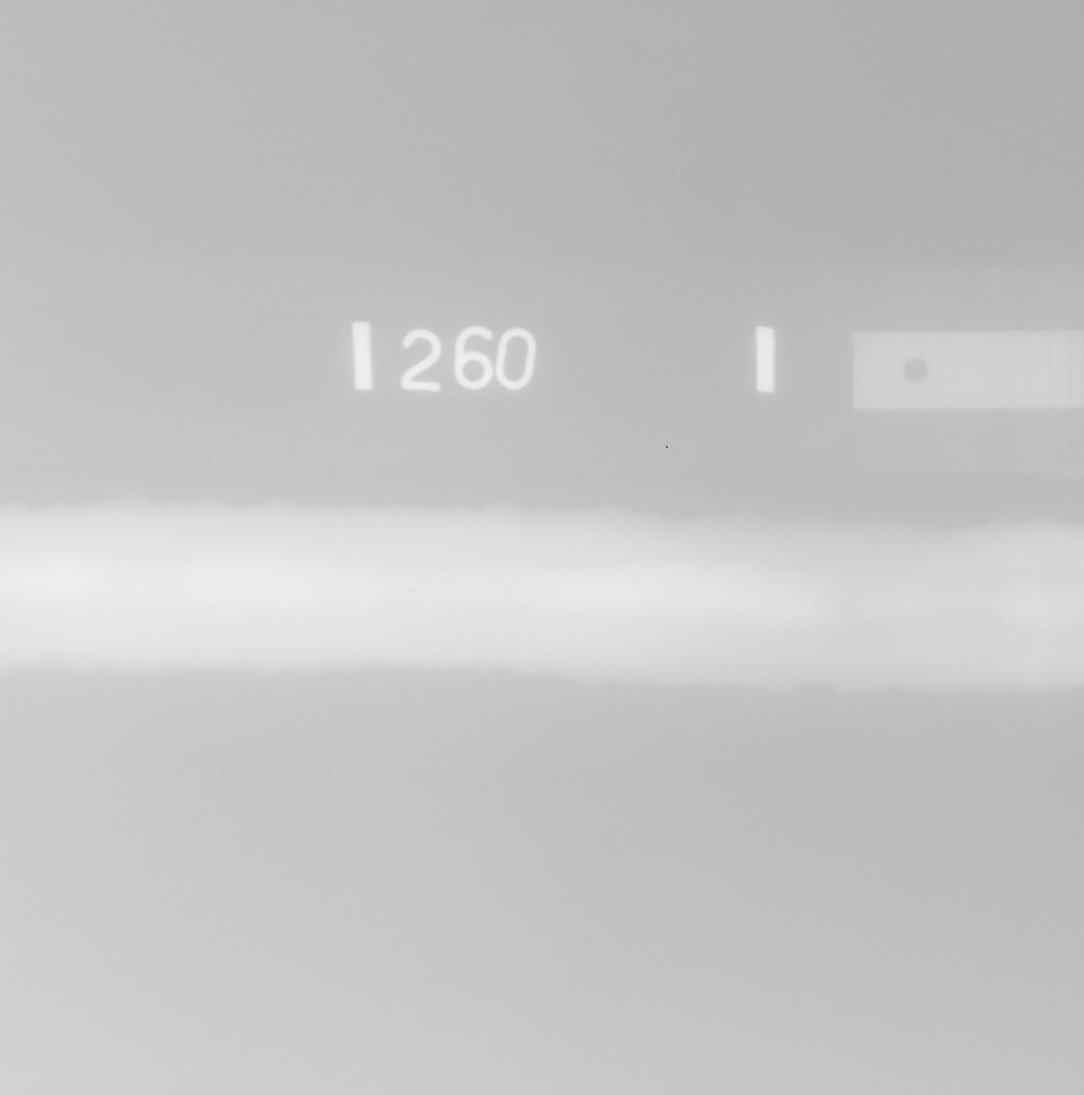Inclusion: (170, 578, 173, 585)
Pore/Porosity: (205, 606, 213, 612), (1001, 522, 1006, 529), (1050, 580, 1055, 585), (410, 588, 415, 593)
Reference Standard 1: (852, 331, 1084, 408)
